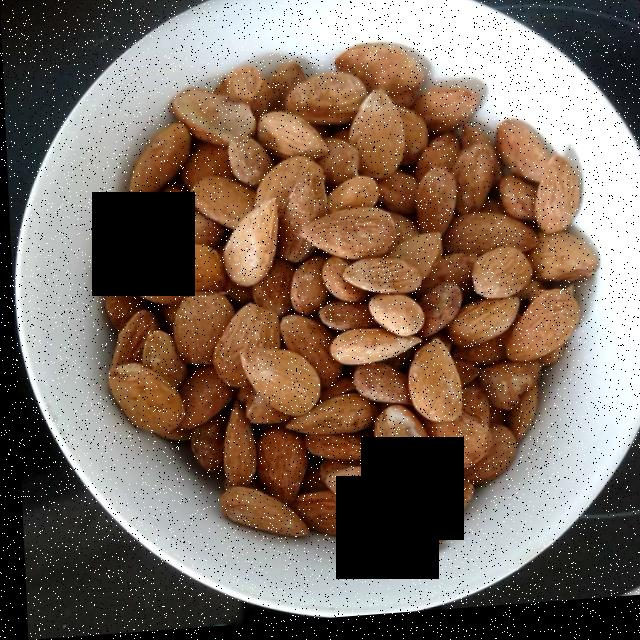almonds: (108, 58, 580, 557)
